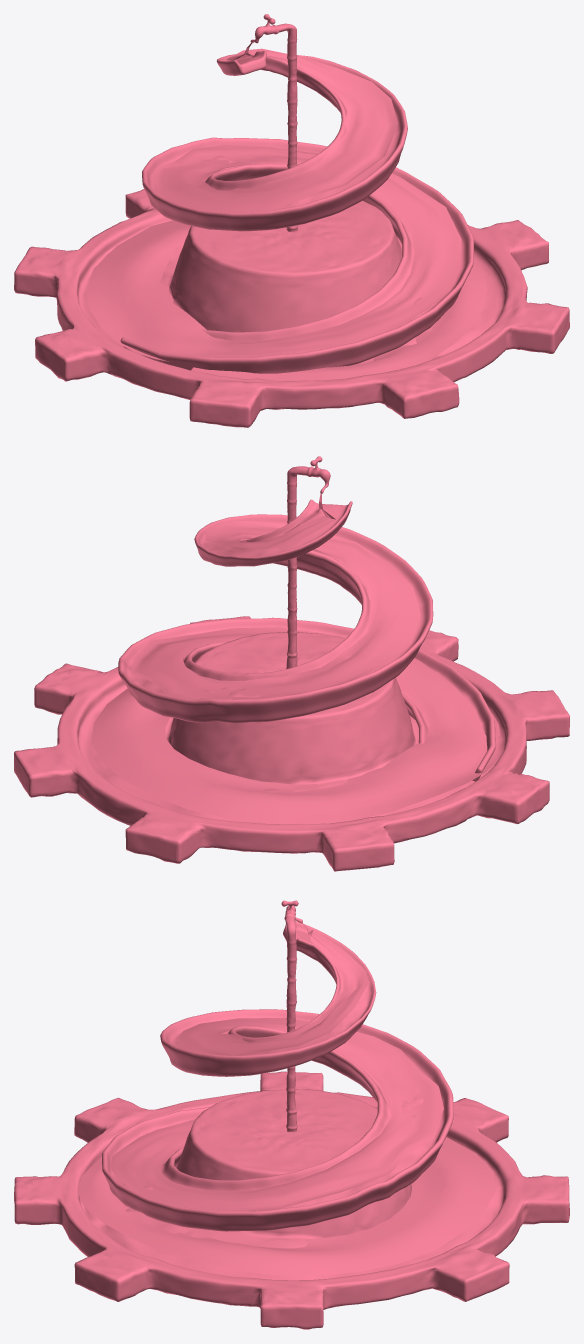
Rendered from Fountain_LOW_Retop.fbx.
The picture shows the model from 3 angles, top to bottom: view 1: azimuth 30°, elevation 25°; view 2: azimuth 150°, elevation 25°; view 3: azimuth 270°, elevation 25°; orthographic projection.
Parts seen in each view (by area): view 1: BASE_LOW, WATER_LOW, PATH_LOW, WATERTIP_LOW; view 2: BASE_LOW, WATER_LOW, PATH_LOW, WATERTIP_LOW; view 3: BASE_LOW, WATER_LOW, PATH_LOW, WATERTIP_LOW.
Part boxes in pixels (left/top/right/bottom): BASE_LOW: left=14, top=189, right=569, bottom=427; WATER_LOW: left=86, top=43, right=487, bottom=380; PATH_LOW: left=120, top=51, right=473, bottom=373; WATERTIP_LOW: left=250, top=14, right=298, bottom=231; BASE_LOW: left=14, top=616, right=569, bottom=871; WATER_LOW: left=91, top=494, right=500, bottom=824; PATH_LOW: left=118, top=499, right=495, bottom=781; WATERTIP_LOW: left=286, top=456, right=330, bottom=668; BASE_LOW: left=14, top=1071, right=569, bottom=1329; WATER_LOW: left=78, top=923, right=495, bottom=1275; PATH_LOW: left=102, top=921, right=453, bottom=1231; WATERTIP_LOW: left=281, top=900, right=302, bottom=1131.
Size of the model in its own units: 212 by 127 by 212.
